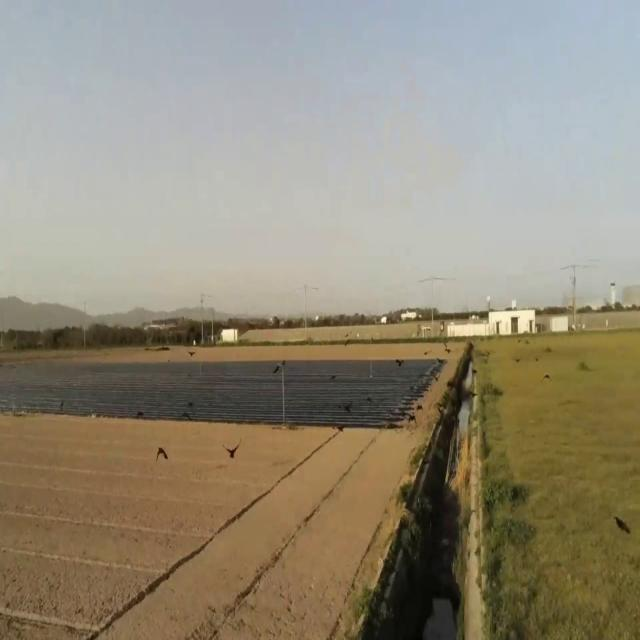bird: (224, 436, 240, 465), (156, 439, 169, 468), (343, 397, 352, 412), (397, 356, 402, 370)
